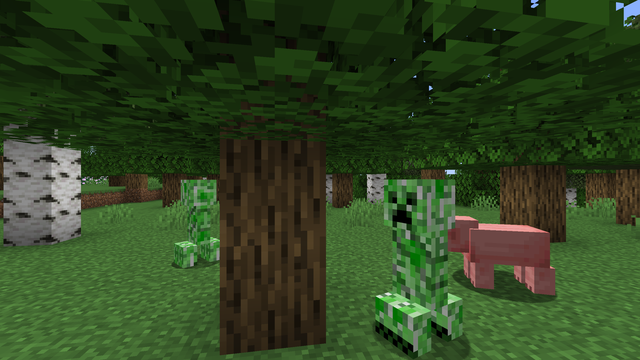cochons: (474, 220, 553, 297)
creepers: (380, 171, 463, 355), (176, 175, 216, 265)
